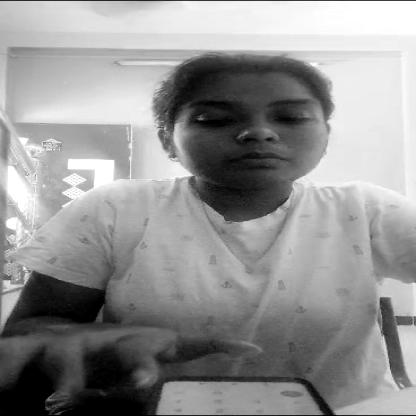Normal: (175, 75, 326, 182)
